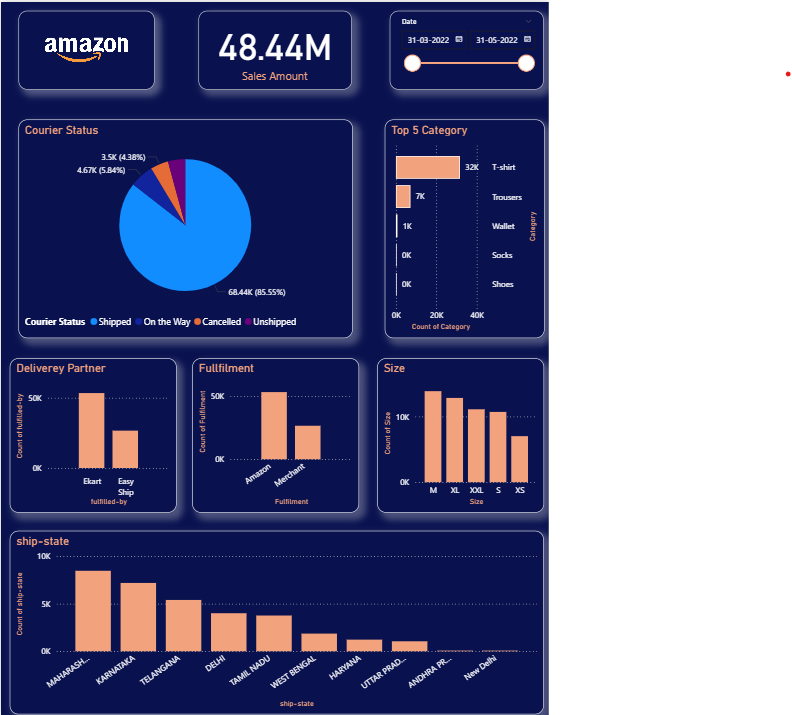

This screenshot's page, from the dashboard's own definition file:
{"tool":"powerbi","page":{"name":"Page 1","canvas":[816,1056],"ordinal":0},"visuals":[{"type":"image","box":[25.2,12.6,201.6,117],"z":0},{"type":"card","fields":{"Values":["Sum(Amazon Sale Report.Amount)"]},"box":[293.2,12.7,227.1,116.9],"z":1000},{"type":"slicer","fields":{"Values":["Amazon Sale Report.Date"]},"box":[928.8,32.5,326.2,161.2],"z":2000},{"type":"barChart","fields":{"Category":["Amazon Sale Report.Category"],"Y":["CountNonNull(Amazon Sale Report.Category)"]},"box":[928.3,246.7,340,381.7],"z":3000},{"type":"slicer","fields":{"Values":["Amazon Sale Report.Date"]},"box":[576.3,12.7,228,116.9],"z":4000},{"type":"barChart","title":"Top 5 Category ","fields":{"Category":["Amazon Sale Report.Category"],"Y":["CountNonNull(Amazon Sale Report.Category)"]},"box":[567.8,173.7,236.4,323.7],"z":5000},{"type":"pieChart","title":"Courier Status","fields":{"Category":["Amazon Sale Report.Courier Status"],"Y":["CountNonNull(Amazon Sale Report.Courier Status)"]},"box":[25.4,173.7,494.9,323.7],"z":6000},{"type":"clusteredColumnChart","title":"Deliverey Partner","fields":{"Category":["Amazon Sale Report.fulfilled-by"],"Y":["CountNonNull(Amazon Sale Report.fulfilled-by)"]},"box":[13.6,528,247.5,228.8],"z":7000},{"type":"clusteredColumnChart","title":"Fullfilment","fields":{"Category":["Amazon Sale Report.Fulfilment"],"Y":["CountNonNull(Amazon Sale Report.Fulfilment)"]},"box":[283.9,528,247.5,228.8],"z":8000},{"type":"clusteredColumnChart","title":"Size","fields":{"Category":["Amazon Sale Report.Size"],"Y":["CountNonNull(Amazon Sale Report.Size)"]},"box":[556.8,528,247.5,228.8],"z":9000},{"type":"clusteredColumnChart","title":"ship-state","fields":{"Category":["Amazon Sale Report.ship-state"],"Y":["CountNonNull(Amazon Sale Report.ship-state)"]},"box":[13.1,783.8,790.9,271.7],"z":10000}]}

Visuals, with their boxes in screenshot pixels (x1, y1, x2, y2):
image: box=[7, 0, 147, 82]
card - Sum(Amazon Sale Report.Amount): box=[193, 1, 350, 82]
slicer - Amazon Sale Report.Date: box=[633, 14, 791, 126]
barChart - Amazon Sale Report.Category x CountNonNull(Amazon Sale Report.Category): box=[633, 163, 791, 427]
slicer - Amazon Sale Report.Date: box=[389, 1, 547, 82]
"Top 5 Category " barChart: box=[383, 112, 547, 336]
"Courier Status" pieChart: box=[7, 112, 350, 336]
"Deliverey Partner" clusteredColumnChart: box=[0, 358, 171, 516]
"Fullfilment" clusteredColumnChart: box=[186, 358, 358, 516]
"Size" clusteredColumnChart: box=[376, 358, 547, 516]
"ship-state" clusteredColumnChart: box=[0, 535, 547, 714]
